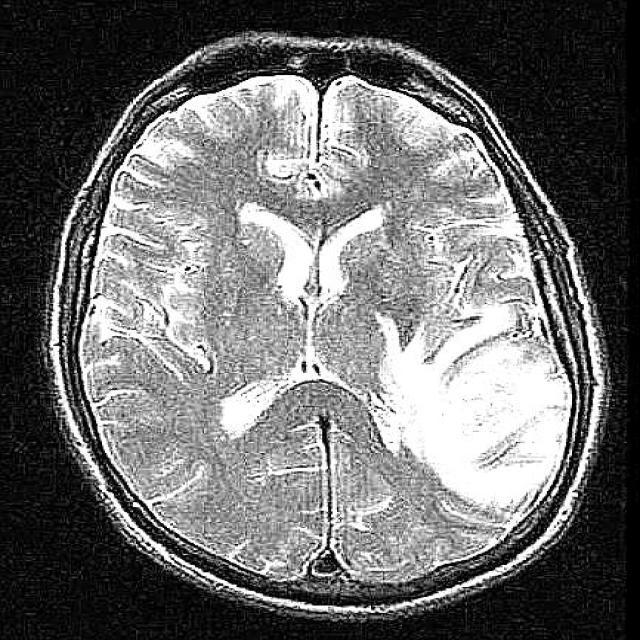Tumor: (364, 302, 578, 513)
